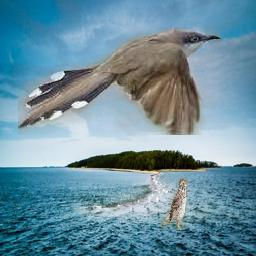Cuckoo: (19, 27, 222, 135)
Sparrow: (161, 178, 187, 230)
